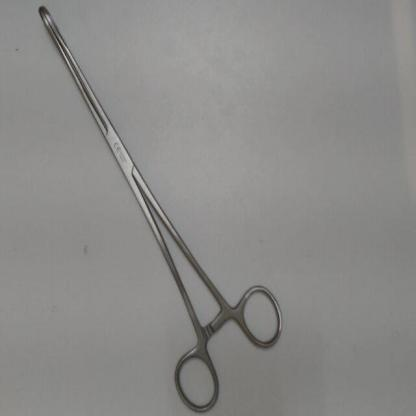Sponge Forceps: (34, 2, 290, 414)
